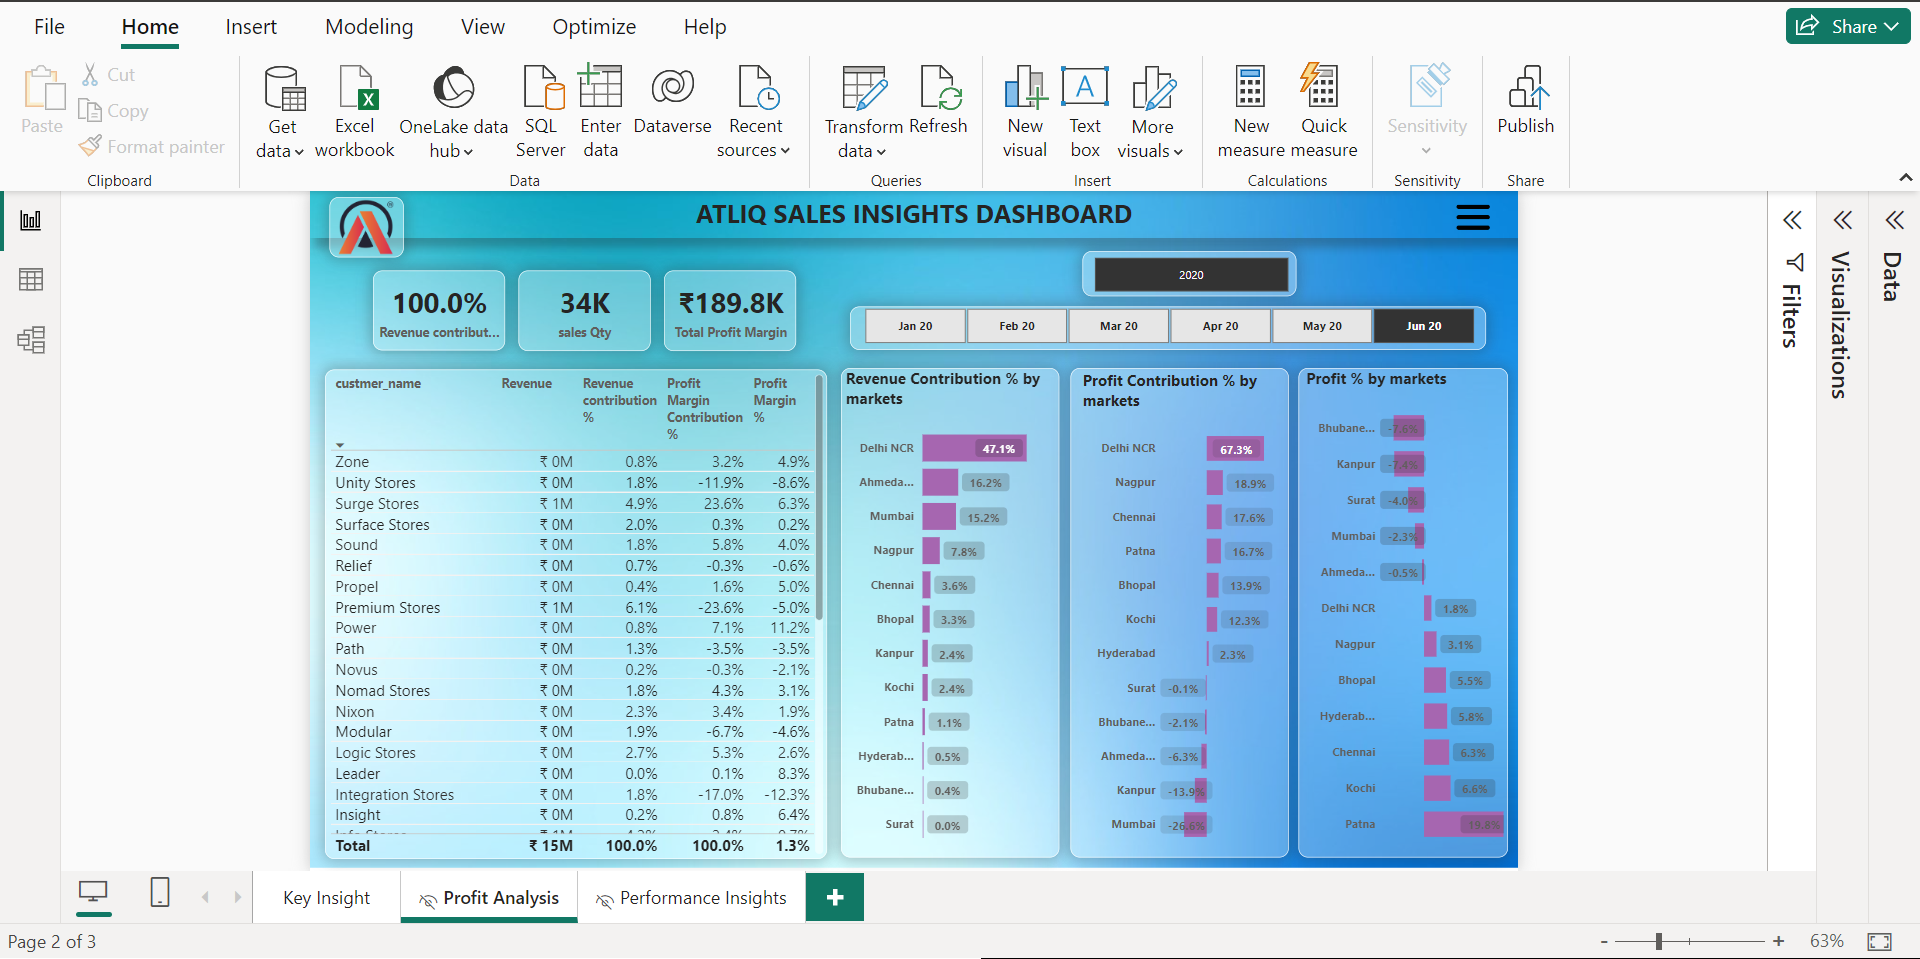

What the dashboard file says about the page in this screenshot:
{"tool":"powerbi","page":{"name":"Profit Analysis","canvas":[1280,720],"ordinal":1},"visuals":[{"type":"textbox","box":[0,0,1280.5,49.8],"z":0},{"type":"image","box":[1210.2,4.4,45.4,45.4],"z":1000},{"type":"shape","box":[67.5,84.4,139.9,84.4],"z":6000},{"type":"shape","box":[375.1,84.4,139.9,85.6],"z":7000},{"type":"shape","box":[220.7,84.4,139.9,85.6],"z":8000},{"type":"shape","box":[15.7,189.3,531.9,518.6],"z":9000},{"type":"shape","box":[562,186.9,231.6,518.6],"z":10000},{"type":"shape","box":[805.6,186.9,231.6,518.6],"z":11000},{"type":"shape","box":[1048,186.9,221.9,518.6],"z":12000},{"type":"shape","box":[818.9,63.9,226.7,48.2],"z":13000},{"type":"shape","box":[571.7,121.8,674.2,45.8],"z":14000},{"type":"shape","box":[20.5,6,78.4,63.9],"z":15000},{"type":"tableEx","title":"Top 5 customer","fields":{"Values":["sales customers.custmer_name","Base Measures 2.Revenue","Base Measures 2.Revenue contribution %","Base Measures 2.Profit Margin Contribution %","Base Measures 2.Profit Margin %"]},"box":[15.7,189.3,533.1,518.6],"z":16000},{"type":"slicer","fields":{"Values":["sales date.year"]},"box":[805.6,63.9,254.5,49.4],"z":17000},{"type":"slicer","fields":{"Values":["sales date.cy_date"]},"box":[562,118.2,694.7,50.7],"z":18000},{"type":"card","fields":{"Values":["Base Measures 2.Total Profit Margin"]},"box":[379.9,88,131.5,79.6],"z":19000},{"type":"card","fields":{"Values":["Base Measures 2.sales Qty"]},"box":[220.7,88,139.9,79.6],"z":20000},{"type":"card","fields":{"Values":["Base Measures 2.Revenue contribution %"]},"box":[67.5,88,139.9,79.6],"z":21000},{"type":"barChart","title":"Revenue Contribution % by markets","fields":{"Category":["sales markets.markets_name"],"Y":["Base Measures 2.Revenue contribution %"]},"box":[562,186.9,231.6,517.4],"z":22000},{"type":"barChart","title":"Profit Contribution % by markets","fields":{"Category":["sales markets.markets_name"],"Y":["Base Measures 2.Profit Margin Contribution %"]},"box":[813.8,188.8,231.2,515],"z":23000},{"type":"barChart","title":"Profit % by markets","fields":{"Category":["sales markets.markets_name"],"Y":["Base Measures 2.Profit Margin %"]},"box":[1050.5,186.9,219.5,517.4],"z":24000},{"type":"image","box":[15.7,2.4,88,68.7],"z":25000}]}

Visuals, with their boxes on the page's 1280x720 design canvas (x1, y1, x2, y2). These are canvas units, not pixel positions in the 1920x959 screenshot, which may show the page scaled, cropped or inside an application window:
textbox: 0 0 1280 50
image: 1210 4 1256 50
shape: 68 84 207 169
shape: 375 84 515 170
shape: 221 84 361 170
shape: 16 189 548 708
shape: 562 187 794 706
shape: 806 187 1037 706
shape: 1048 187 1270 706
shape: 819 64 1046 112
shape: 572 122 1246 168
shape: 20 6 99 70
"Top 5 customer" tableEx: 16 189 549 708
slicer - sales date.year: 806 64 1060 113
slicer - sales date.cy_date: 562 118 1257 169
card - Base Measures 2.Total Profit Margin: 380 88 511 168
card - Base Measures 2.sales Qty: 221 88 361 168
card - Base Measures 2.Revenue contribution %: 68 88 207 168
"Revenue Contribution % by markets" barChart: 562 187 794 704
"Profit Contribution % by markets" barChart: 814 189 1045 704
"Profit % by markets" barChart: 1050 187 1270 704
image: 16 2 104 71
